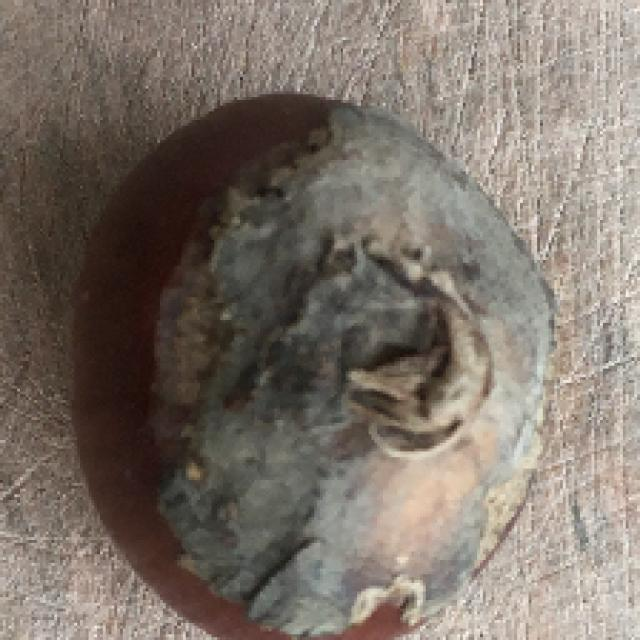damagedHazelnut: (72, 82, 551, 631)
